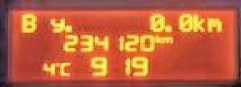-: (63, 23, 71, 32), (163, 24, 171, 31)
0: (176, 12, 191, 32), (148, 12, 163, 32), (138, 34, 153, 50)
1: (120, 54, 130, 75), (114, 33, 123, 50)
2: (60, 33, 76, 52), (123, 33, 138, 50)
3: (76, 33, 91, 52)
4: (93, 33, 108, 50), (38, 60, 53, 75)
9: (129, 54, 148, 76), (86, 55, 106, 75)
X: (18, 12, 36, 33), (191, 10, 205, 31), (46, 15, 63, 31), (205, 15, 220, 31), (58, 60, 69, 76), (161, 34, 171, 43), (153, 33, 161, 43)
